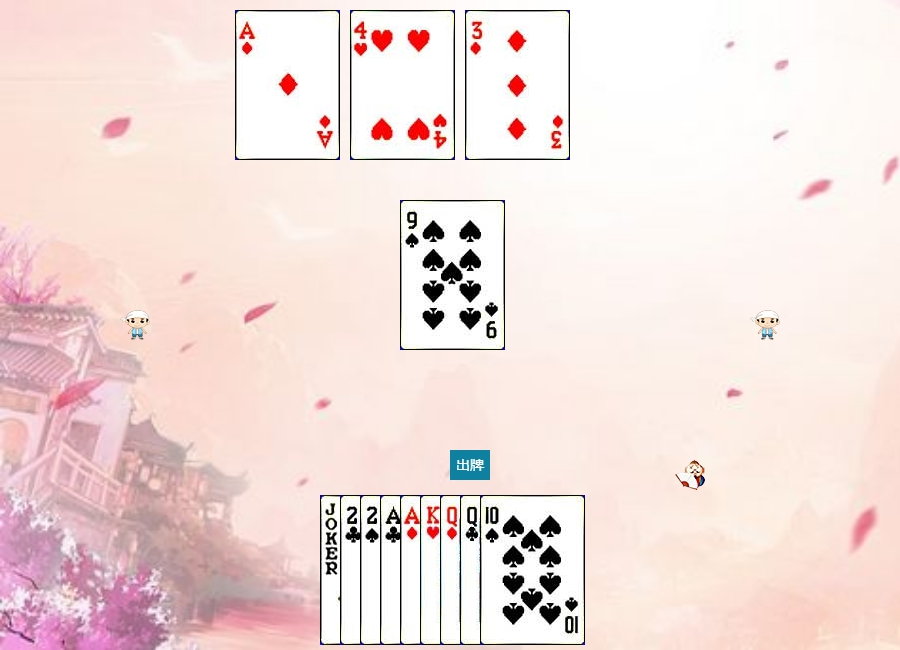10~4: (480, 495, 585, 645)
12~1: (440, 495, 545, 645)
12~2: (460, 495, 565, 645)
13~3: (420, 495, 525, 645)
14~1: (235, 10, 340, 160), (400, 495, 505, 645)
14~2: (380, 495, 485, 645)
15~2: (340, 495, 445, 645)
15~4: (360, 495, 465, 645)
17~3: (320, 495, 425, 645)
3~1: (465, 10, 570, 160)
4~3: (350, 10, 455, 160)
9~4: (400, 200, 505, 350)
